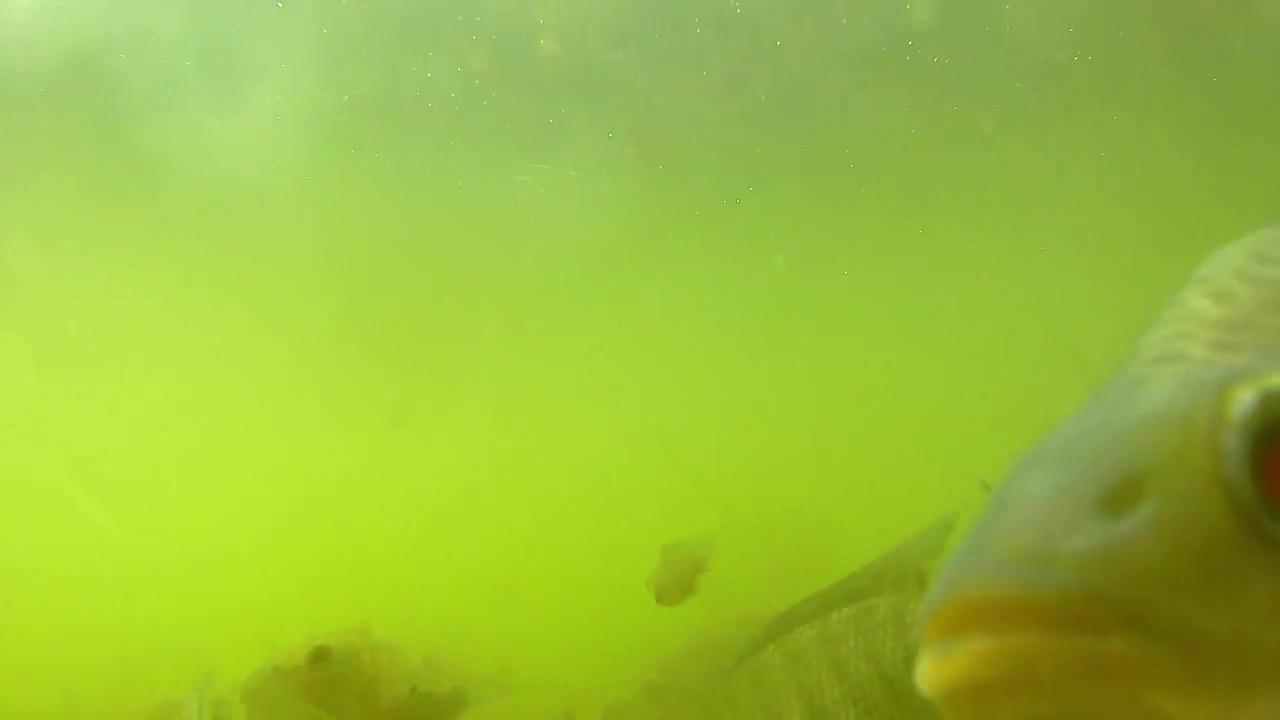Tilapia: (913, 224, 1280, 720), (621, 504, 738, 622)
